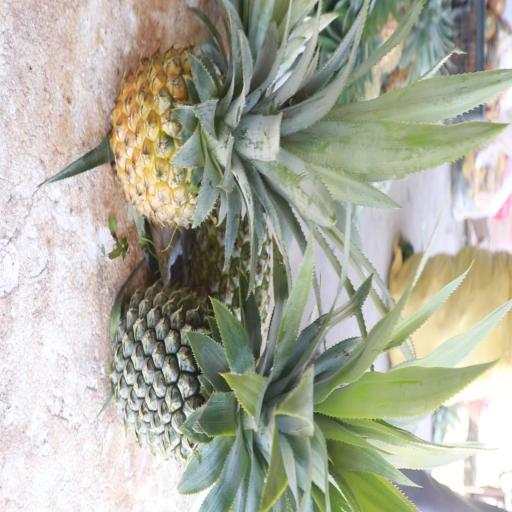Pineapple - v8 v1: (104, 38, 358, 237)
